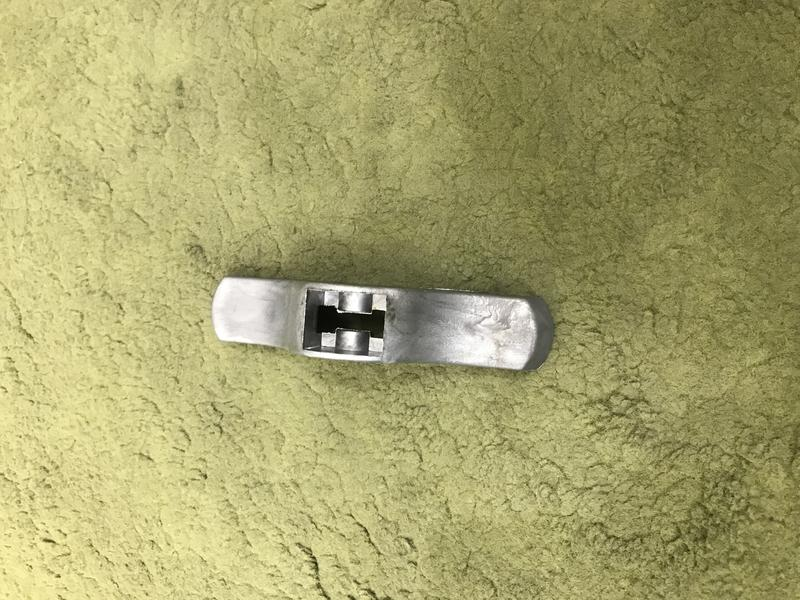zapchast: (190, 255, 576, 400)
